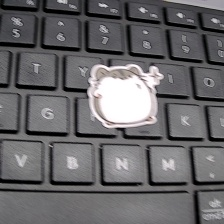mouse: (88, 62, 165, 131)
